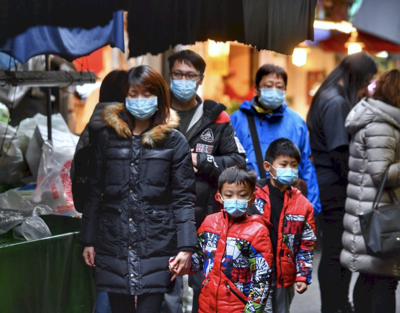with_mask: (123, 88, 159, 122), (169, 68, 199, 102), (257, 79, 286, 113), (221, 186, 250, 218), (275, 158, 300, 185)
